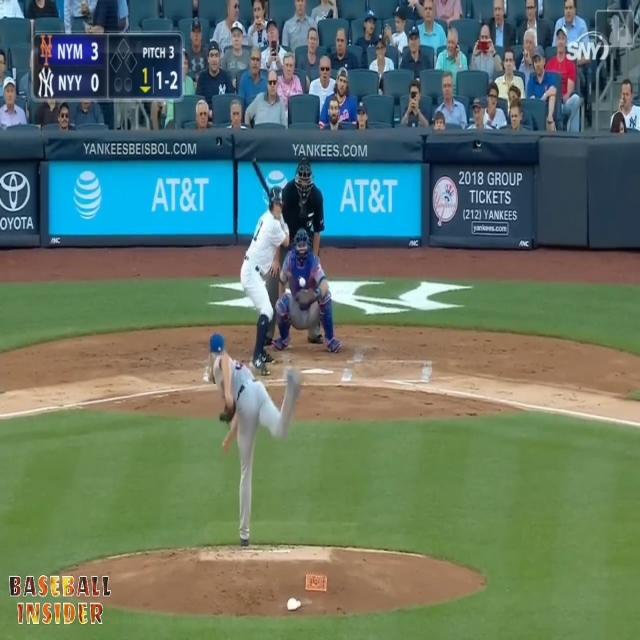baseball: (300, 276, 305, 288)
